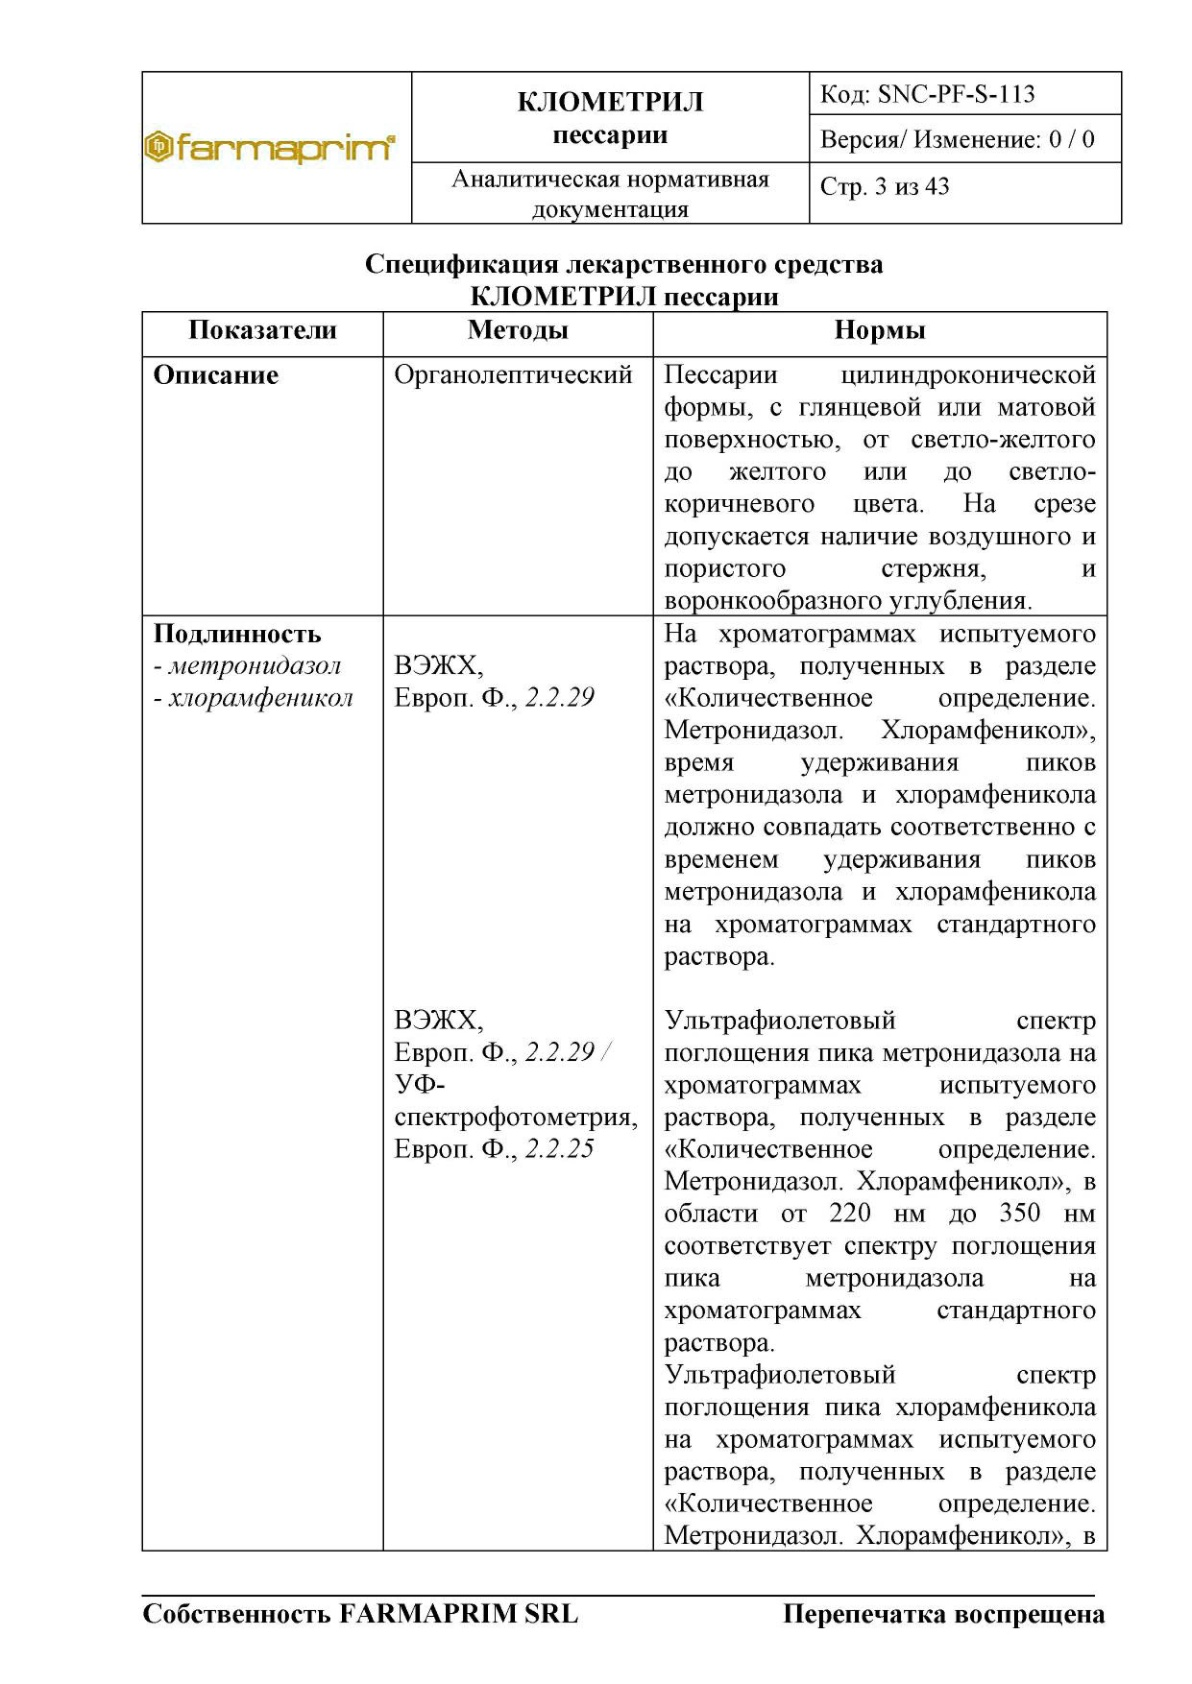full_lined: (141, 311, 1109, 1552), (141, 71, 1124, 224)
